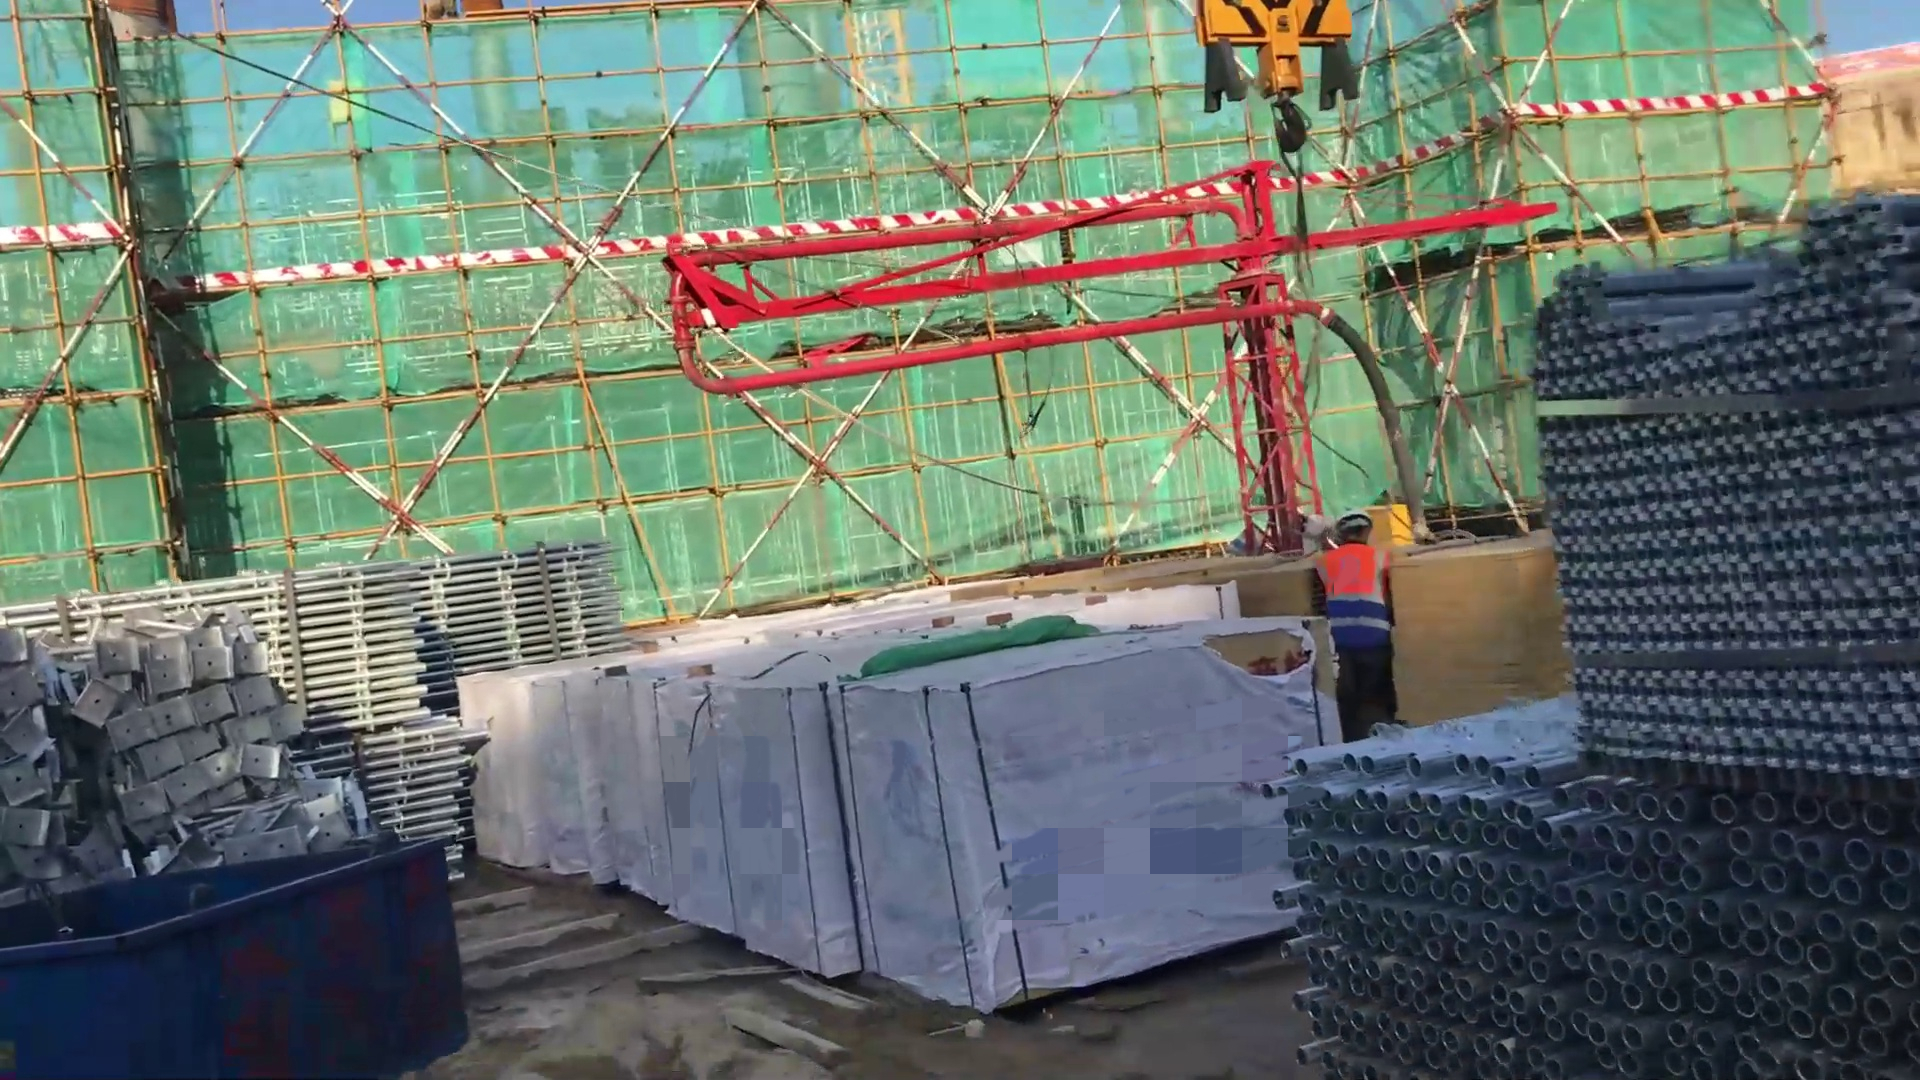board: (1381, 522, 1575, 729)
ebox: (1361, 502, 1431, 560)
helmet: (1336, 493, 1368, 556)
hook: (1181, 1, 1366, 187)
hopper: (1, 827, 469, 1076)
person: (1314, 504, 1414, 758)
scaffold: (1238, 721, 1912, 1080), (1497, 214, 1920, 772), (1, 535, 423, 736), (412, 531, 620, 699), (323, 702, 479, 871)
vest: (1326, 540, 1404, 666)
